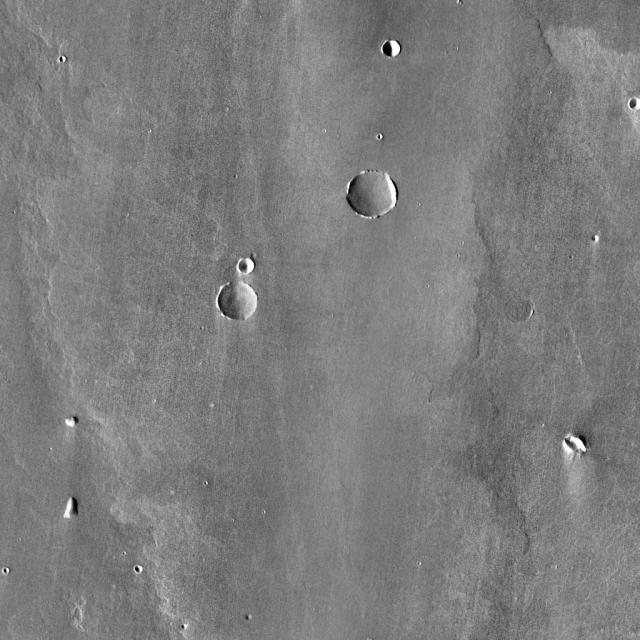crater: (351, 169, 401, 216), (220, 279, 258, 315), (508, 293, 537, 321), (571, 434, 591, 454), (386, 39, 405, 57), (243, 258, 256, 270), (626, 90, 633, 104), (595, 232, 603, 240), (138, 563, 146, 571), (576, 438, 584, 444), (241, 605, 248, 611)
